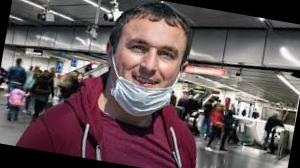mask_weared_incorrect: (111, 32, 185, 108)
